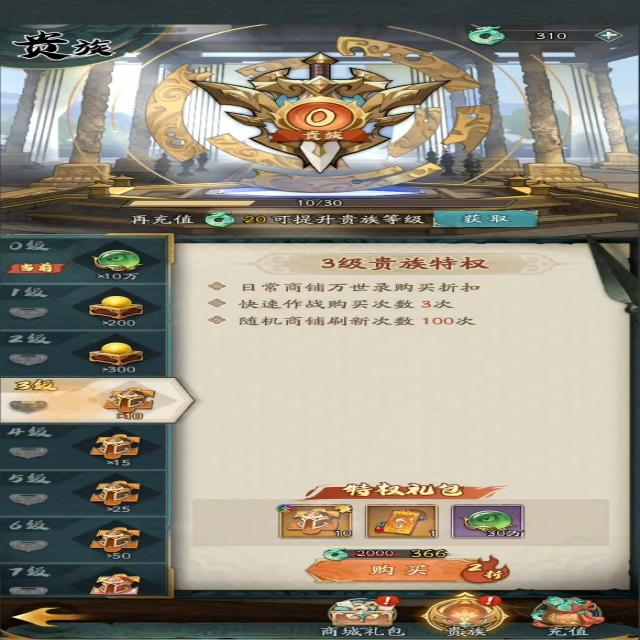hint-reddot: (370, 593, 401, 607), (474, 594, 502, 608)
operation-back: (2, 601, 100, 632)
operation-buy: (298, 557, 521, 585)
